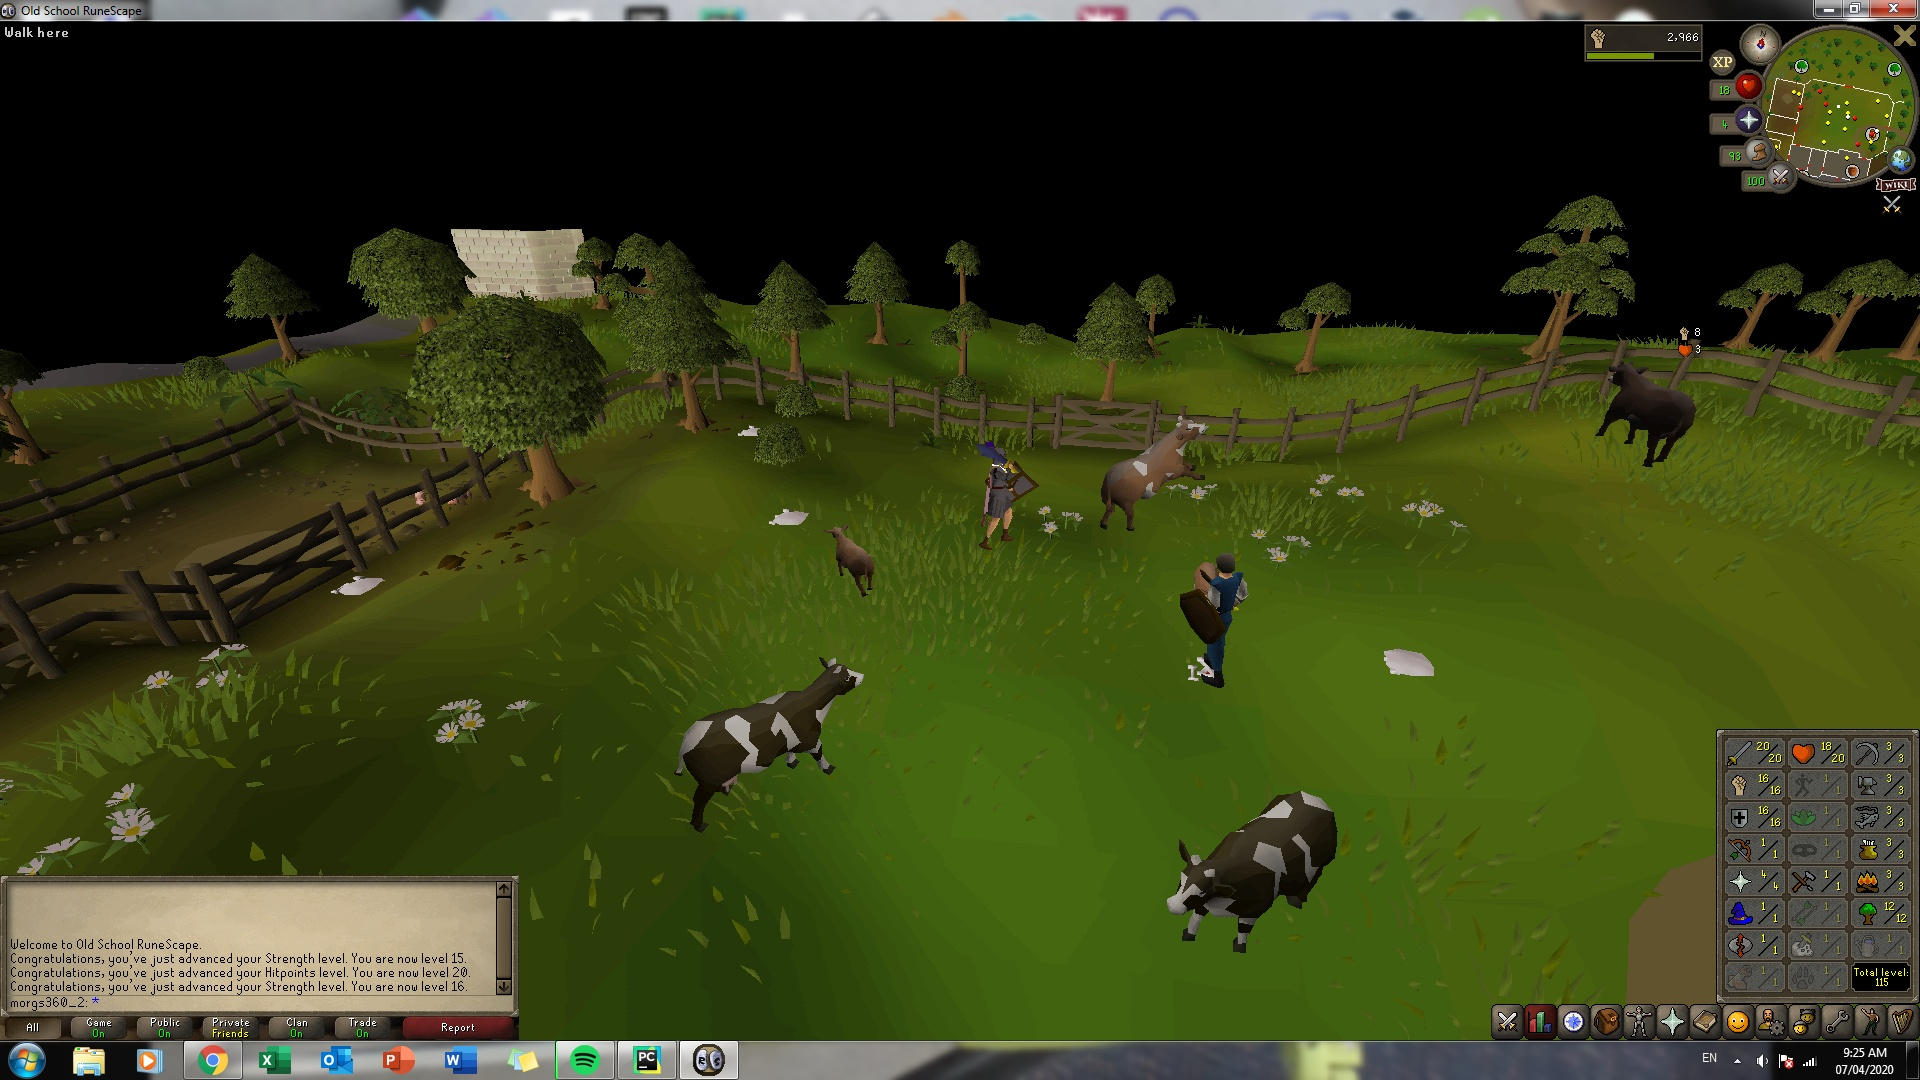cow: (676, 651, 866, 831), (1168, 778, 1338, 953), (1096, 409, 1207, 531), (1590, 361, 1696, 469)
